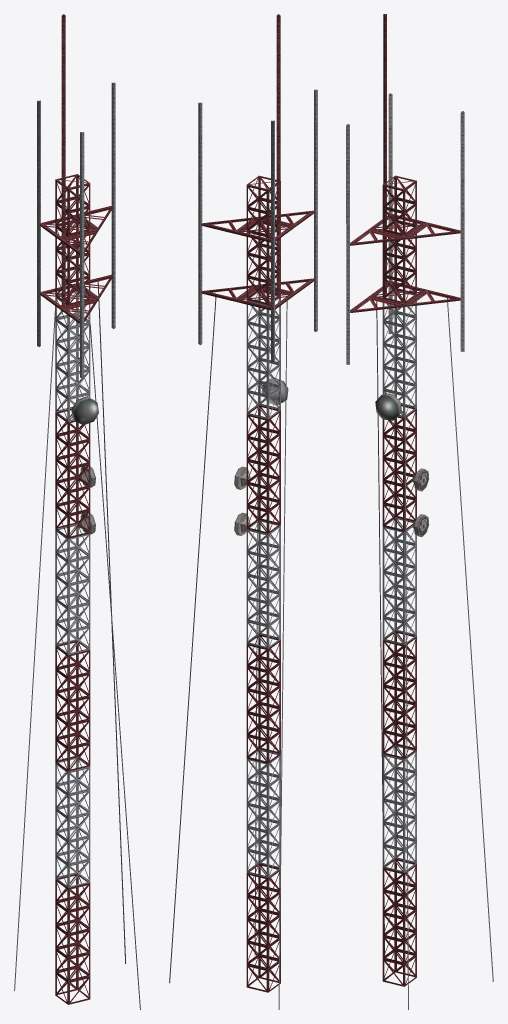
File: mtower4.fbx
The picture shows the model from 3 angles, left to right: view 1: azimuth 30°, elevation 25°; view 2: azimuth 150°, elevation 25°; view 3: azimuth 330°, elevation 25°; orthographic projection. The views are drawn at different scales.
Parts seen in each view (by area): view 1: mesh_0, mesh_1, mesh_3, mesh_4, mesh_7, mesh_2, mesh_5; view 2: mesh_0, mesh_1, mesh_3, mesh_4, mesh_7, mesh_2, mesh_5; view 3: mesh_0, mesh_1, mesh_4, mesh_3, mesh_7, mesh_2, mesh_5, mesh_6.
Boxes of the visible parts, box(x1,y1,x2,y2) form: mesh_0: box(55, 174, 90, 1004); mesh_1: box(55, 290, 90, 888); mesh_3: box(37, 82, 115, 378); mesh_4: box(14, 281, 140, 1009); mesh_7: box(40, 205, 112, 323); mesh_2: box(61, 14, 65, 303); mesh_5: box(71, 396, 98, 534); mesh_0: box(246, 175, 280, 992); mesh_1: box(246, 291, 280, 877); mesh_3: box(198, 89, 317, 362); mesh_4: box(169, 297, 287, 1009); mesh_7: box(201, 210, 314, 310); mesh_2: box(276, 14, 280, 298); mesh_5: box(234, 377, 288, 535); mesh_0: box(382, 175, 416, 986); mesh_1: box(382, 290, 416, 872); mesh_4: box(376, 295, 493, 1009); mesh_3: box(346, 93, 464, 364); mesh_7: box(350, 213, 460, 312); mesh_2: box(383, 14, 386, 295); mesh_5: box(375, 393, 424, 536); mesh_6: box(418, 469, 429, 536).
Size of the model in its own units: 302 by 2542 by 251.
4 materials, 4 textured.
